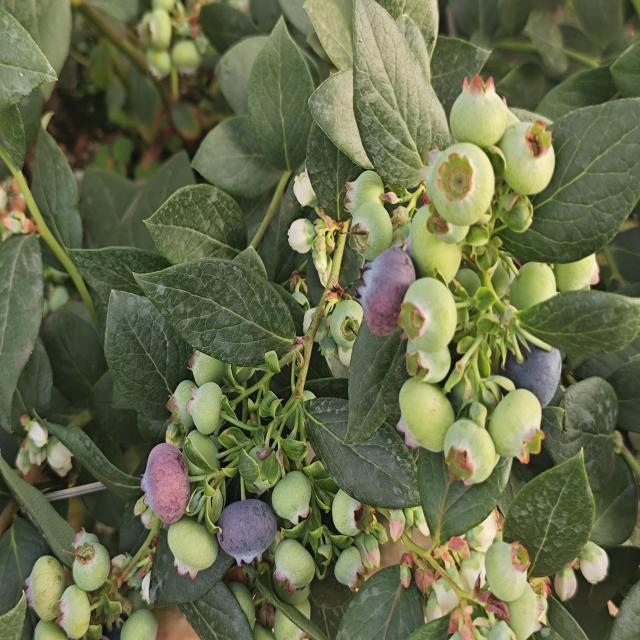ripe: (203, 503, 273, 573), (514, 345, 574, 409)
